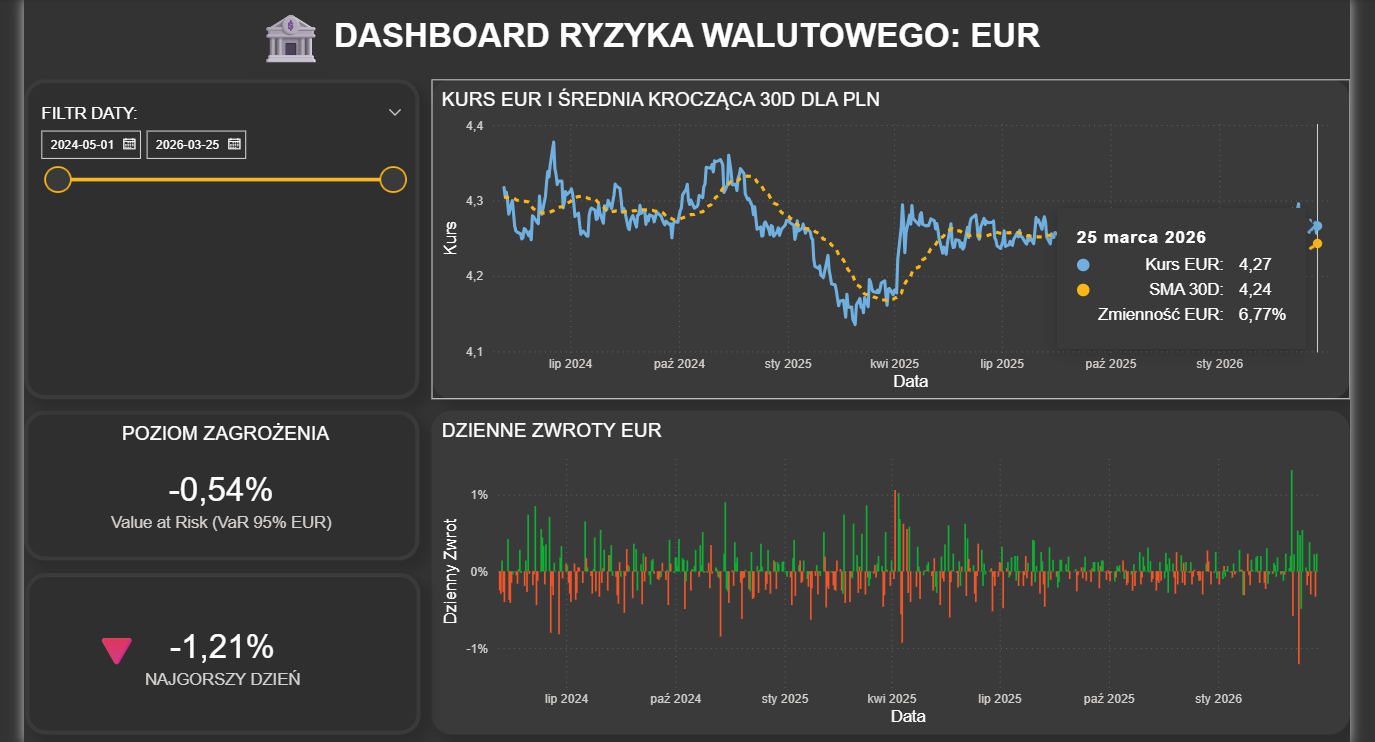

The page's visual inventory and layout, read from the dashboard file:
{"tool":"powerbi","page":{"name":"EUR","canvas":[1280,720],"ordinal":1},"visuals":[{"type":"lineChart","title":"KURS EUR I ŚREDNIA KROCZĄCA 30D DLA PLN","fields":{"Category":["dane_walutowe_do_powerbi.Data"],"Y":["Sum(dane_walutowe_do_powerbi.Kurs EUR)","Sum(dane_walutowe_do_powerbi.SMA 30D EUR)"]},"box":[393.3,78.4,886.7,308.8],"z":0},{"type":"card","title":"POZIOM ZAGROŻENIA","fields":{"Values":["Avg(dane_walutowe_do_powerbi.VaR 95% EUR)"]},"box":[0,398.1,381.2,144.8],"z":1000},{"type":"clusteredColumnChart","title":"DZIENNE ZWROTY EUR","fields":{"Category":["dane_walutowe_do_powerbi.Data"],"Y":["Sum(dane_walutowe_do_powerbi.Dzienny Zwrot EUR)"]},"box":[393.3,398.1,886.7,312.5],"z":2000},{"type":"slicer","fields":{"Values":["dane_walutowe_do_powerbi.Data"]},"box":[0,78.4,381.2,308.8],"z":3000},{"type":"textbox","box":[0,0,1280,78.4],"z":4000},{"type":"textbox","box":[219.6,0,72.4,78.4],"z":5000},{"type":"card","title":"MAKSYMALNA STRATA W DANYM DNIU:","fields":{"Values":["Min(dane_walutowe_do_powerbi.Dzienny Zwrot EUR)"]},"box":[1.2,555,381.2,155.6],"z":6000},{"type":"textbox","box":[43.4,583.9,97.7,98.9],"z":7000}]}

Visuals, with their boxes on the page's 1280x720 design canvas (x1, y1, x2, y2). These are canvas units, not pixel positions in the 1375x742 screenshot, which may show the page scaled, cropped or inside an application window:
"KURS EUR I ŚREDNIA KROCZĄCA 30D DLA PLN" lineChart: <region>393, 78, 1280, 387</region>
"POZIOM ZAGROŻENIA" card: <region>0, 398, 381, 543</region>
"DZIENNE ZWROTY EUR" clusteredColumnChart: <region>393, 398, 1280, 711</region>
slicer - dane_walutowe_do_powerbi.Data: <region>0, 78, 381, 387</region>
textbox: <region>0, 0, 1280, 78</region>
textbox: <region>220, 0, 292, 78</region>
"MAKSYMALNA STRATA W DANYM DNIU:" card: <region>1, 555, 382, 711</region>
textbox: <region>43, 584, 141, 683</region>
